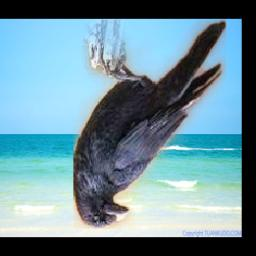Crow: (73, 20, 226, 230)
